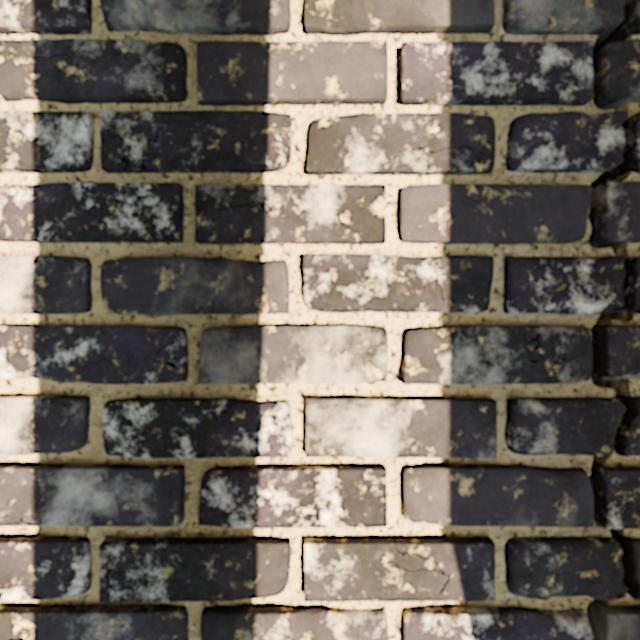brick: (100, 537, 290, 601), (400, 42, 592, 105), (198, 41, 387, 105), (304, 537, 494, 600), (401, 464, 592, 526), (0, 39, 186, 102), (101, 111, 291, 172), (199, 466, 386, 527), (307, 113, 494, 174), (306, 397, 496, 457), (399, 184, 590, 243), (0, 464, 184, 525), (103, 398, 290, 457), (196, 185, 385, 243), (402, 326, 591, 383), (0, 326, 187, 383), (302, 255, 492, 311), (0, 183, 183, 241), (199, 326, 386, 382), (101, 257, 288, 313), (0, 604, 187, 639), (304, 0, 493, 34), (101, 0, 290, 34), (402, 606, 592, 639), (201, 606, 387, 639), (0, 536, 91, 599), (0, 111, 93, 172), (0, 395, 89, 454), (0, 257, 91, 313), (0, 0, 91, 33), (597, 182, 639, 241), (599, 40, 639, 101), (599, 467, 639, 527), (599, 326, 639, 377), (599, 605, 639, 639), (0, 518, 23, 525)
broken_brick: (503, 536, 625, 600), (505, 110, 625, 173), (503, 255, 623, 314), (504, 397, 624, 456), (501, 0, 623, 35), (621, 396, 639, 456), (628, 536, 639, 580), (631, 256, 639, 314), (635, 121, 639, 161), (633, 27, 639, 35), (631, 168, 639, 173)
crack: (586, 0, 639, 639), (30, 111, 62, 148), (29, 395, 74, 407), (103, 562, 116, 602), (0, 514, 43, 526), (30, 254, 72, 265), (318, 420, 329, 457), (8, 625, 36, 639), (270, 630, 294, 639), (77, 111, 88, 128), (131, 585, 139, 601)
